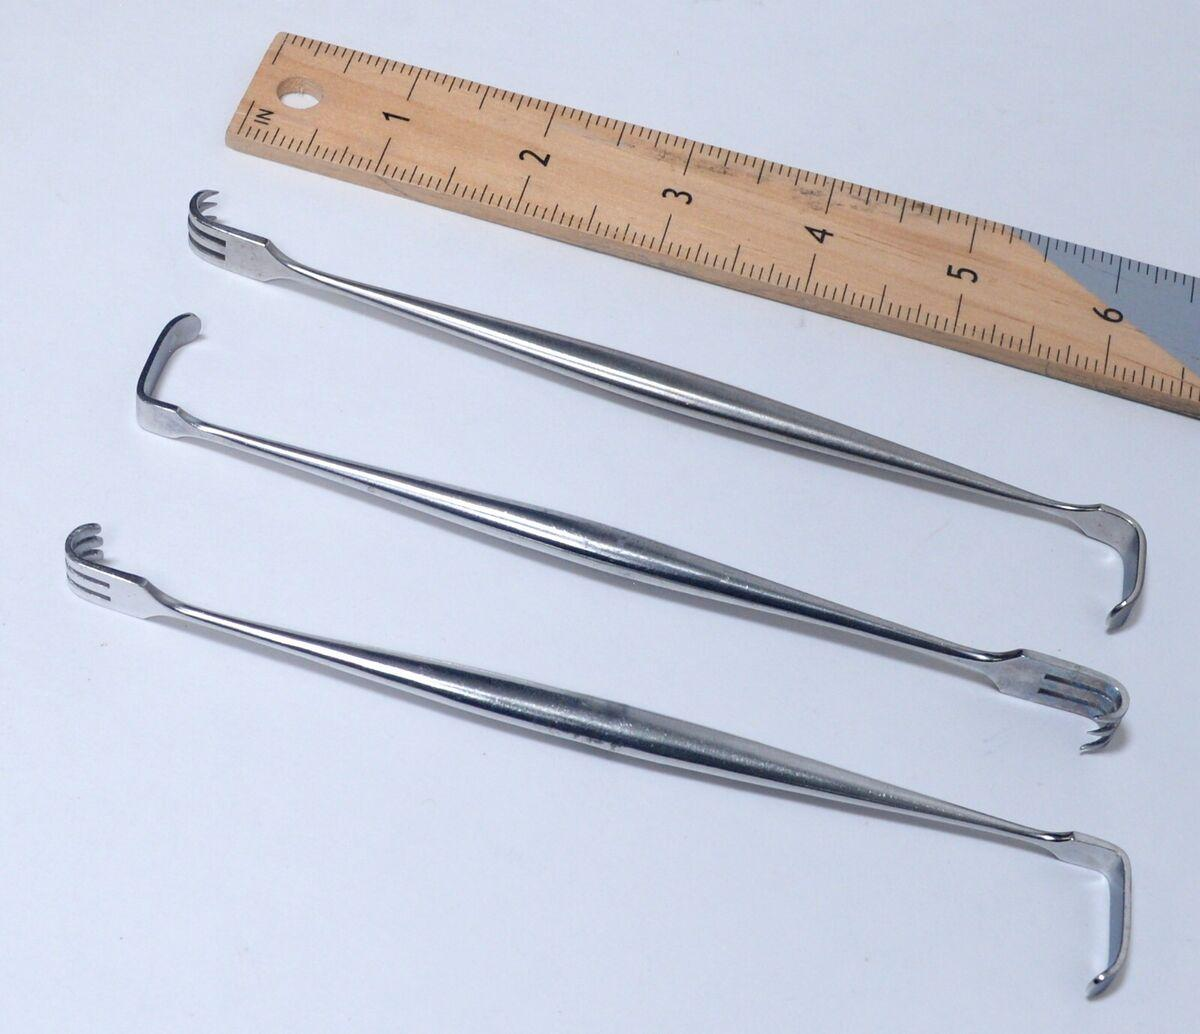Senn Retractor: (38, 493, 1143, 1003), (128, 295, 1135, 758), (168, 160, 1158, 630)
